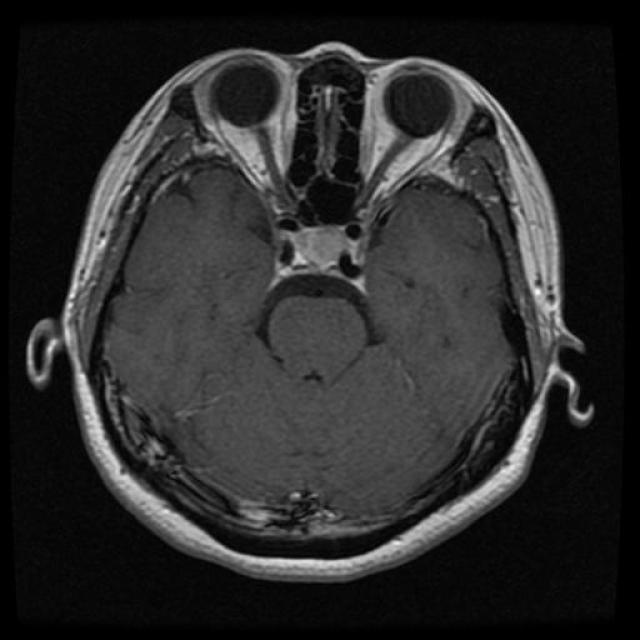pituitary: (258, 221, 376, 306)
